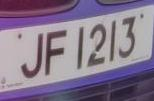1: (72, 18, 91, 81), (107, 15, 121, 67)
2: (86, 14, 110, 76)
3: (117, 13, 139, 62)
F: (41, 23, 73, 83)
J: (16, 30, 45, 83)
